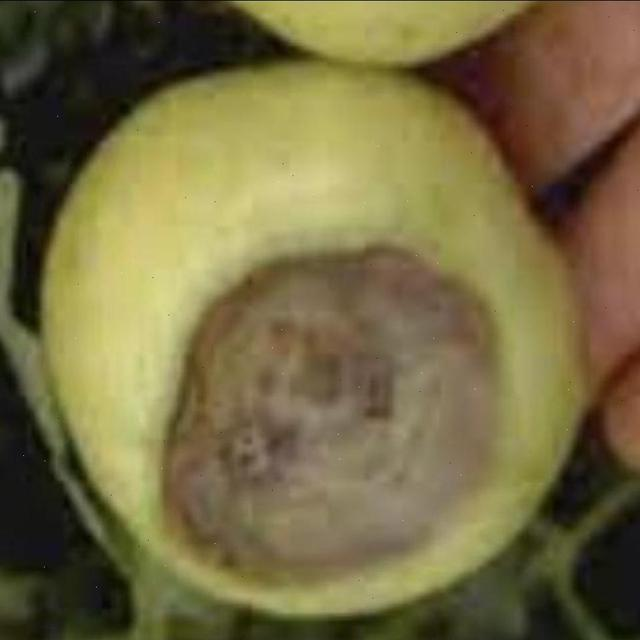Blossom End Rot Fruit: (106, 160, 344, 397)
